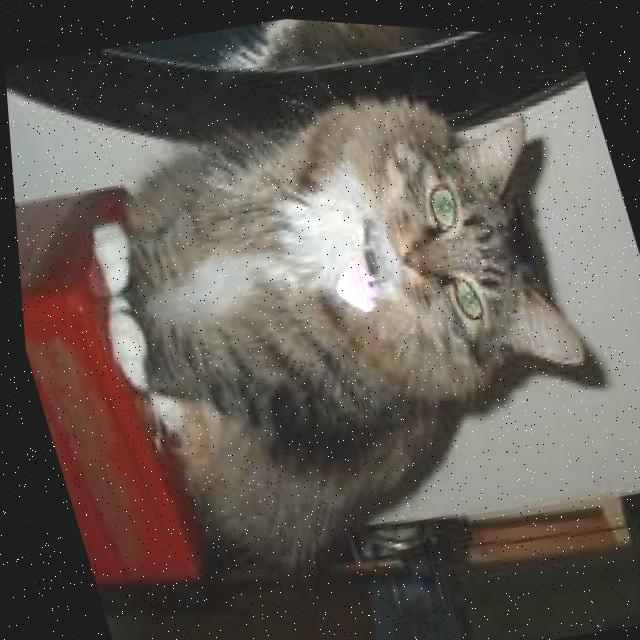Maine Coon: (38, 31, 640, 629)
